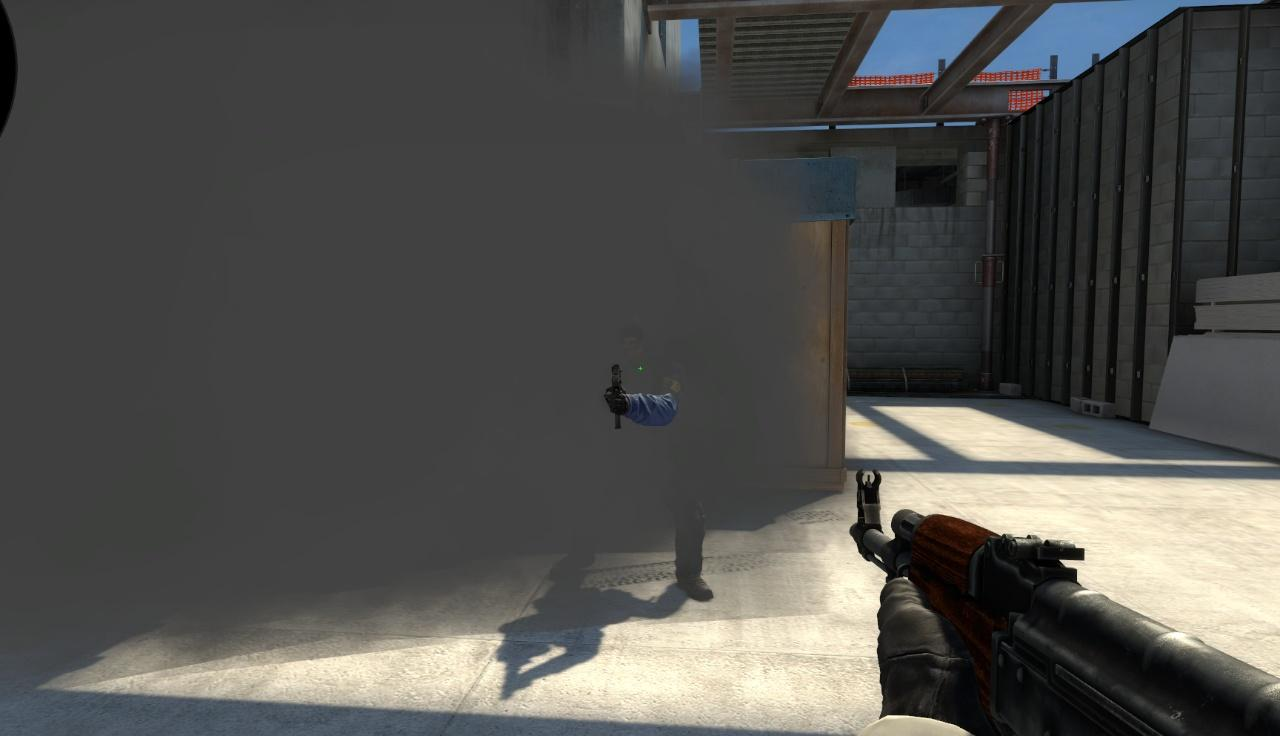ct: (584, 327, 695, 589)
cthead: (616, 323, 652, 369)
rifle: (843, 461, 1280, 736)
